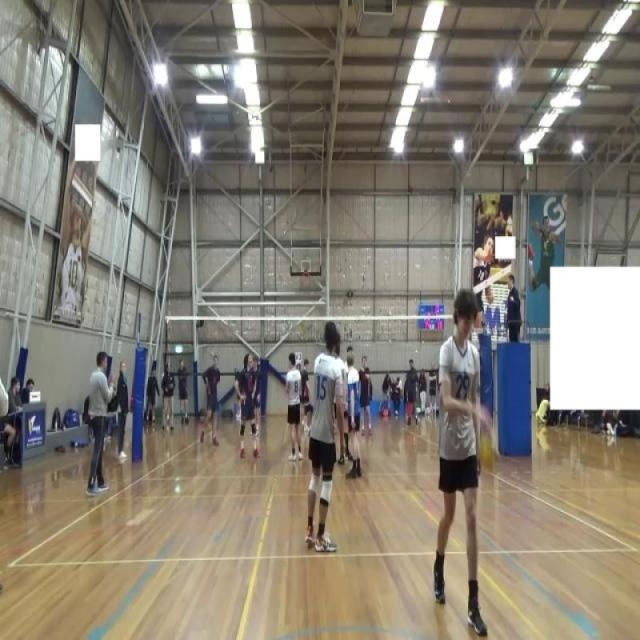volleyball: (476, 424, 503, 479)
